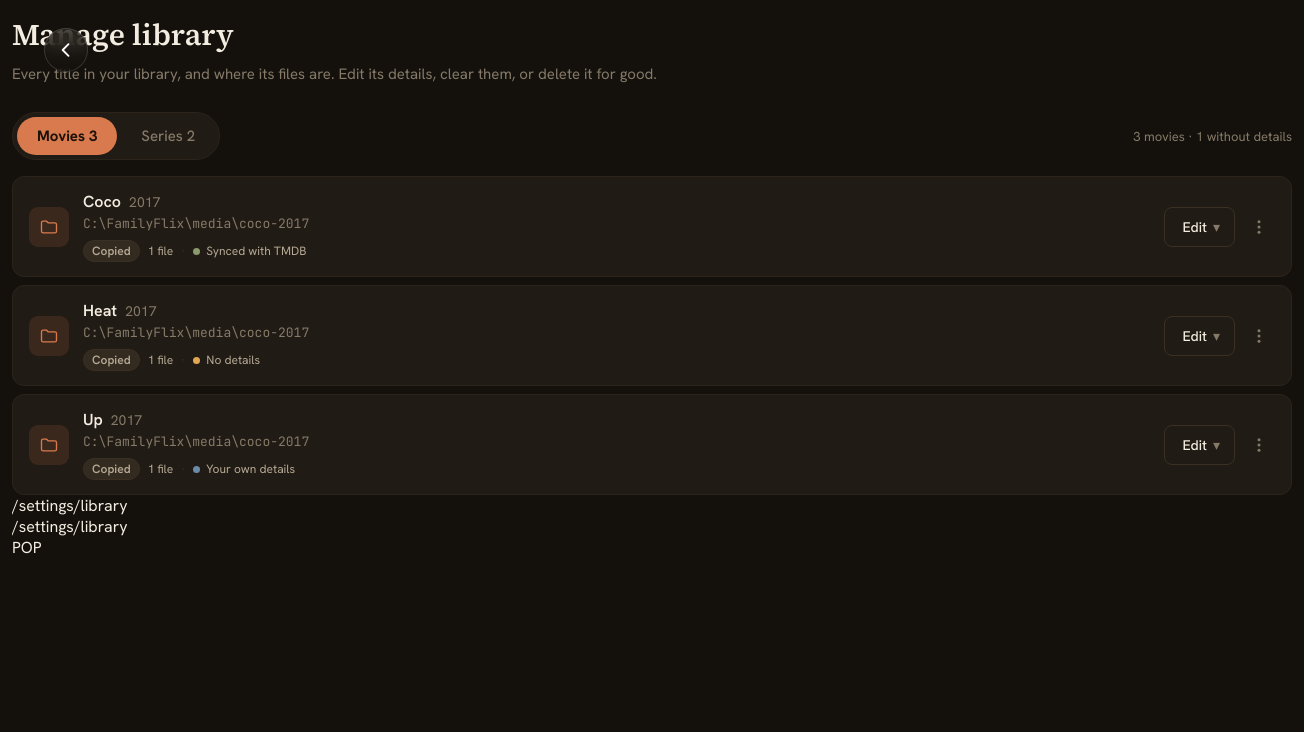
ManageLibrary — Back › steps back when there is an entry behind the page
Expected: the button "Movies 3" is shown, [17,117,117,155]
Click the button named "Back" at {"x": 66, "y": 50}, box [44,28,88,72]
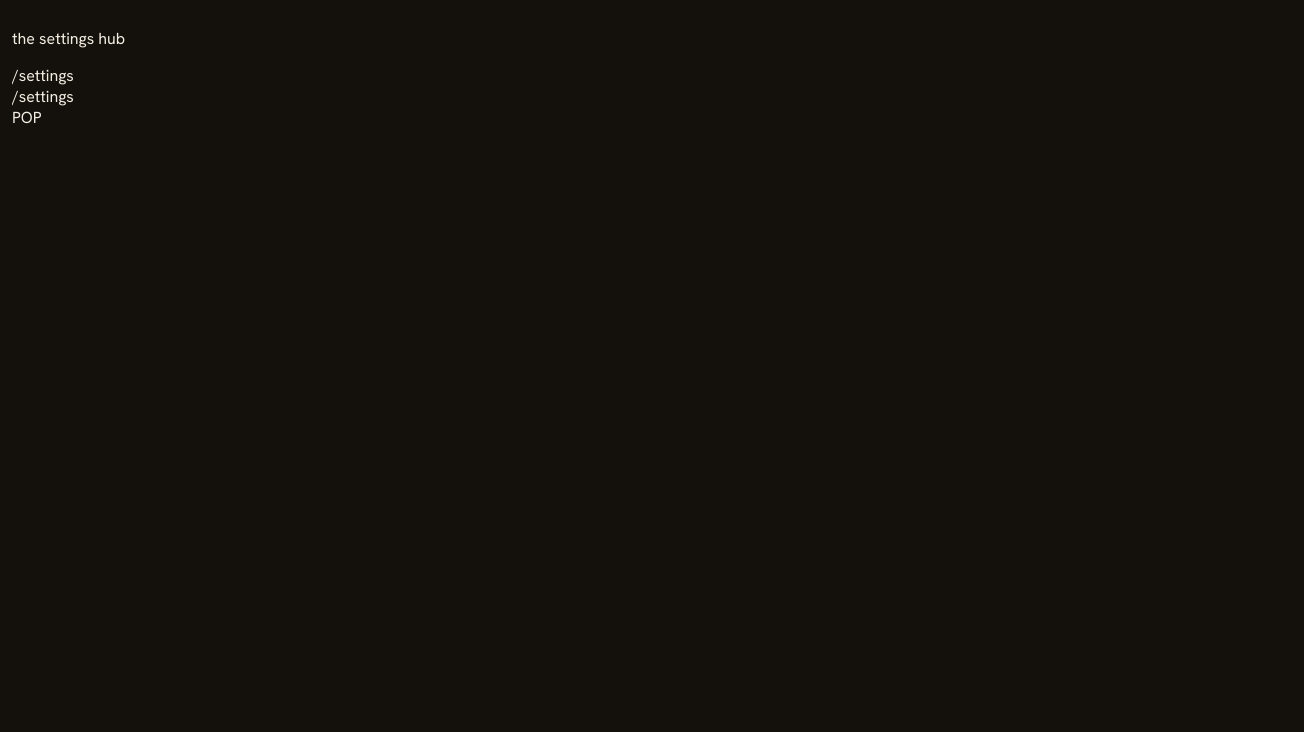
Expected: the text with test id "navigationType" reads "POP", [12,107,42,128]
Expected: the text with test id "pathname" reads "/settings", [12,65,74,86]
